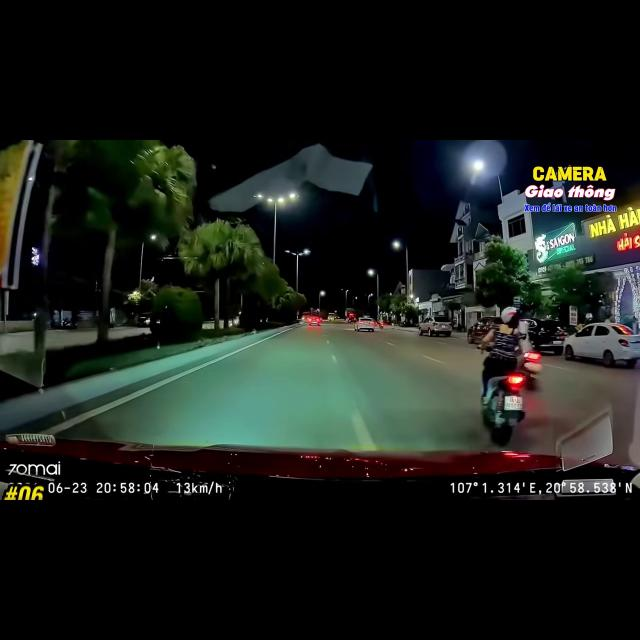car: (564, 323, 639, 367), (523, 318, 573, 354), (467, 316, 499, 344), (418, 316, 452, 336), (354, 317, 376, 331), (137, 312, 151, 328), (308, 316, 321, 325)
motorcycle: (482, 367, 526, 445)
